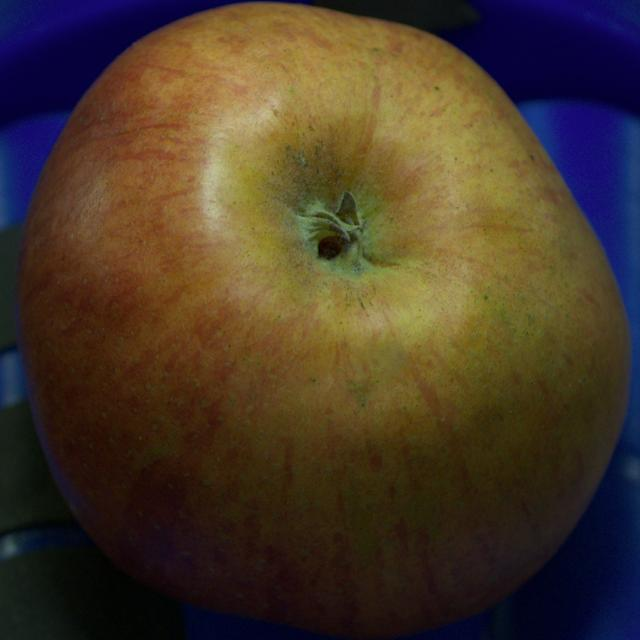apple: (16, 4, 631, 638)
